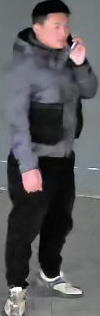phone: (9, 2, 95, 95)
